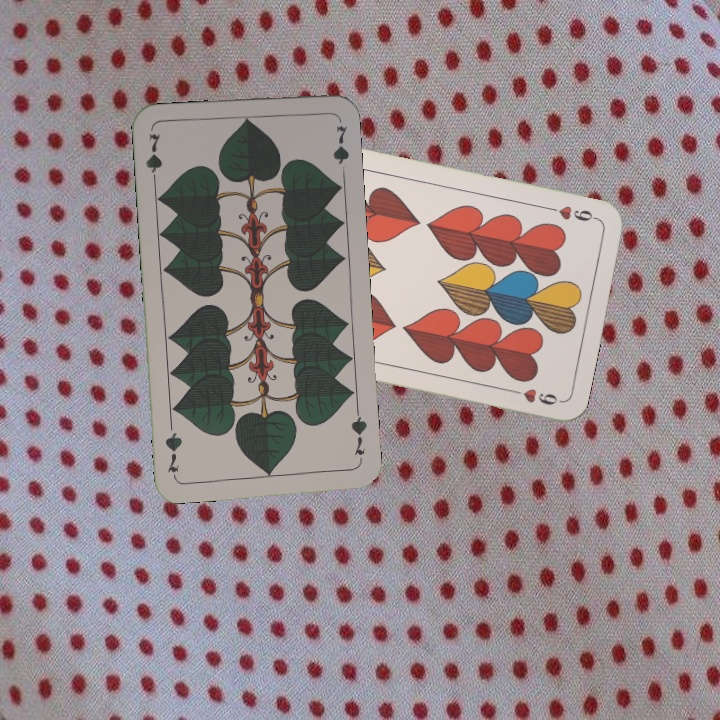G7: (142, 129, 165, 188), (347, 406, 370, 465)
H9: (542, 201, 600, 224)
